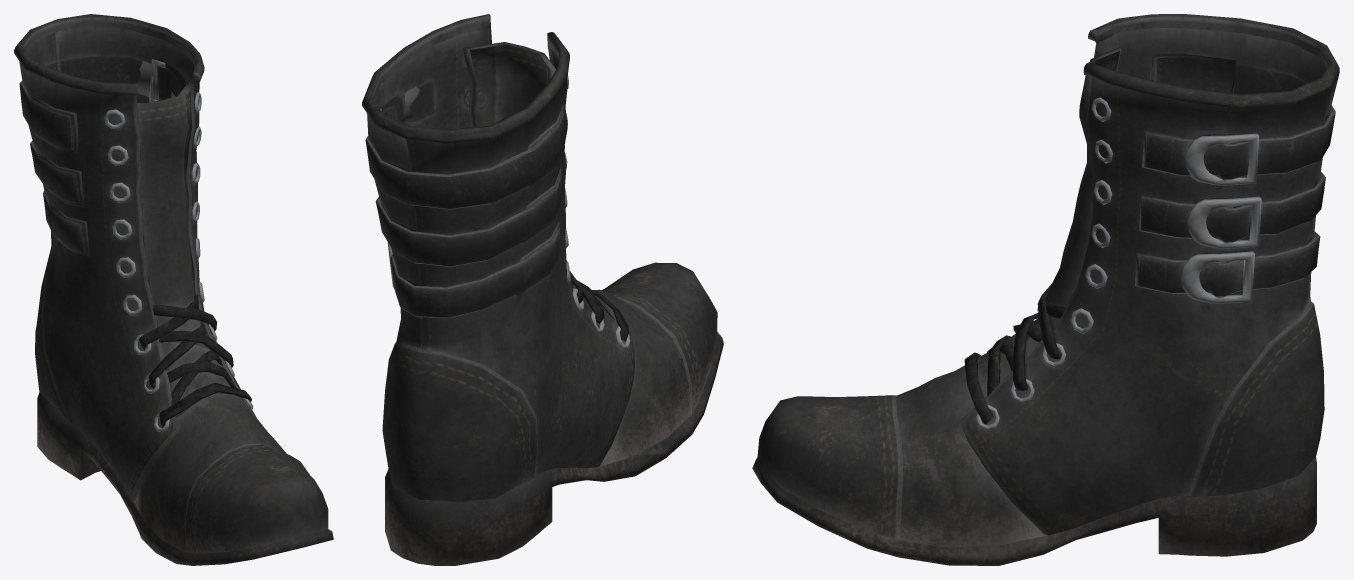
Rendered from boots_2_tex1.glb.
The picture shows the model from 3 angles, left to right: view 1: azimuth 30°, elevation 25°; view 2: azimuth 150°, elevation 25°; view 3: azimuth 270°, elevation 25°; orthographic projection. The views are drawn at different scales.
Parts seen in each view (by area): view 1: Shoes022_Cube021, Shoes025_Cube029, Shoes023_Cube024, Shoes024_Laces; view 2: Shoes022_Cube021, Shoes025_Cube029, Shoes023_Cube024, Shoes024_Laces; view 3: Shoes022_Cube021, Shoes025_Cube029, Shoes023_Cube024, Shoes026_Cube030, Shoes024_Laces.
Boxes of the visible parts, left/top/right/bottom form: Shoes022_Cube021: left=14, top=14, right=256, bottom=500; Shoes025_Cube029: left=37, top=83, right=333, bottom=565; Shoes023_Cube024: left=19, top=61, right=196, bottom=256; Shoes024_Laces: left=139, top=293, right=251, bottom=427; Shoes022_Cube021: left=362, top=14, right=635, bottom=501; Shoes025_Cube029: left=385, top=42, right=723, bottom=565; Shoes023_Cube024: left=365, top=86, right=564, bottom=317; Shoes024_Laces: left=570, top=271, right=629, bottom=341; Shoes022_Cube021: left=959, top=14, right=1339, bottom=535; Shoes025_Cube029: left=752, top=46, right=1316, bottom=565; Shoes023_Cube024: left=1135, top=53, right=1335, bottom=297; Shoes026_Cube030: left=1181, top=133, right=1261, bottom=303; Shoes024_Laces: left=964, top=284, right=1065, bottom=424.
Bounding box in the file's own units: 6.8 × 18.56 × 20.22.
Materials: 1 (1 with a texture image).
